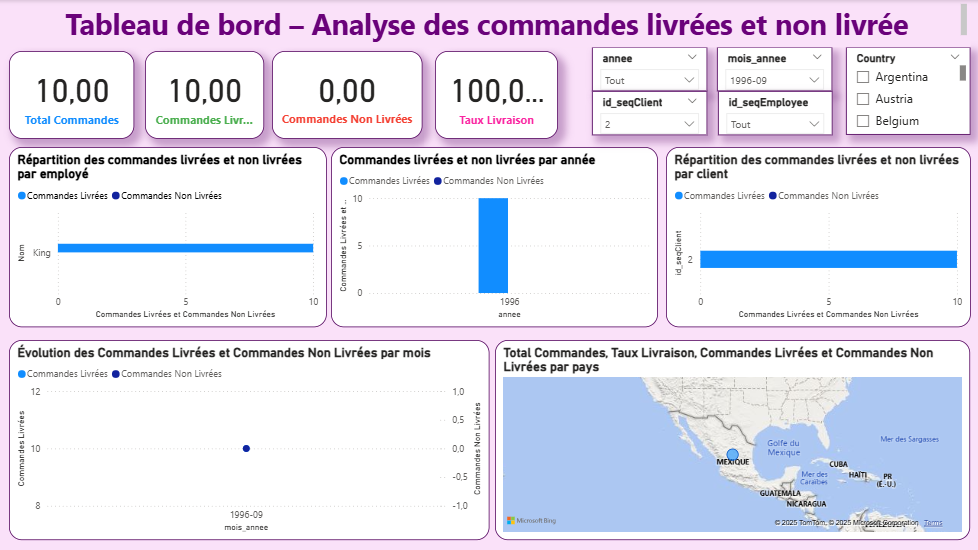

This screenshot's page, from the dashboard's own definition file:
{"tool":"powerbi","page":{"name":"Dashboard_biproject","canvas":[1280,720],"ordinal":0},"visuals":[{"type":"card","fields":{"Values":["TF_Commande.Total Commandes"]},"box":[11.5,66.2,164.2,115.2],"z":0},{"type":"card","fields":{"Values":["TF_Commande.Commandes Livrées"]},"box":[185.8,66.1,159.7,115.6],"z":1000},{"type":"card","fields":{"Values":["TF_Commande.Commandes Non Livrées"]},"box":[356.7,66.7,196.7,115],"z":2000},{"type":"card","fields":{"Values":["TF_Commande.Taux Livraison"]},"box":[568.4,65.8,169.5,115.4],"z":3000},{"type":"slicer","fields":{"Values":["Dim_Temps.annee"]},"box":[774.7,61.9,151.2,57.6],"z":4000},{"type":"slicer","fields":{"Values":["Dim_Temps.mois_annee"]},"box":[938.9,61.9,151.2,57.6],"z":5000},{"type":"slicer","fields":{"Values":["Dim_Client.Country"]},"box":[1107.4,61.9,162.7,115.2],"z":6000},{"type":"lineChart","title":"Évolution des Commandes Livrées et Commandes Non Livrées par mois","fields":{"Category":["Dim_Temps.mois_annee"],"Y":["TF_Commande.Commandes Livrées"],"Y2":["TF_Commande.Commandes Non Livrées"]},"box":[11.5,445,629.3,262.1],"z":7000},{"type":"clusteredBarChart","title":"Répartition des commandes livrées et non livrées par employé","fields":{"Category":["Dim_Employee.Nom"],"Y":["TF_Commande.Commandes Livrées","TF_Commande.Commandes Non Livrées"]},"box":[11.5,193,416.2,236.2],"z":8000},{"type":"clusteredColumnChart","title":"Commandes livrées et non livrées par année","fields":{"Category":["Dim_Temps.annee"],"Y":["TF_Commande.Commandes Livrées","TF_Commande.Commandes Non Livrées"]},"box":[433.4,193,427.7,236.2],"z":9000},{"type":"map","title":"Total Commandes, Taux Livraison, Commandes Livrées et Commandes Non Livrées par pays","fields":{"Category":["Dim_Client.Country"],"Size":["TF_Commande.Total Commandes"]},"box":[648,445,622.1,262.1],"z":10000},{"type":"slicer","fields":{"Values":["TF_Commande.id_seqClient"]},"box":[774.7,119.5,151.2,57.6],"z":11000},{"type":"slicer","fields":{"Values":["TF_Commande.id_seqEmployee"]},"box":[940.3,119.5,149.8,57.6],"z":12000},{"type":"barChart","title":"Répartition des commandes livrées et non livrées par client ","fields":{"Category":["Dim_Client.id_seqClient"],"Y":["TF_Commande.Commandes Livrées","TF_Commande.Commandes Non Livrées"]},"box":[871.2,193,398.9,236.2],"z":13000},{"type":"textbox","box":[11.5,0,1258.6,61.9],"z":14000}]}

Visuals, with their boxes in screenshot pixels (x1, y1, x2, y2), scaled from the page's 1280x720 canvas onto the 978x550 screenshot:
card - TF_Commande.Total Commandes: l=9, t=51, r=134, b=139
card - TF_Commande.Commandes Livrées: l=142, t=50, r=264, b=139
card - TF_Commande.Commandes Non Livrées: l=273, t=51, r=423, b=139
card - TF_Commande.Taux Livraison: l=434, t=50, r=564, b=138
slicer - Dim_Temps.annee: l=592, t=47, r=707, b=91
slicer - Dim_Temps.mois_annee: l=717, t=47, r=833, b=91
slicer - Dim_Client.Country: l=846, t=47, r=970, b=135
"Évolution des Commandes Livrées et Commandes Non Livrées par mois" lineChart: l=9, t=340, r=490, b=540
"Répartition des commandes livrées et non livrées par employé" clusteredBarChart: l=9, t=147, r=327, b=328
"Commandes livrées et non livrées par année" clusteredColumnChart: l=331, t=147, r=658, b=328
"Total Commandes, Taux Livraison, Commandes Livrées et Commandes Non Livrées par pays" map: l=495, t=340, r=970, b=540
slicer - TF_Commande.id_seqClient: l=592, t=91, r=707, b=135
slicer - TF_Commande.id_seqEmployee: l=718, t=91, r=833, b=135
"Répartition des commandes livrées et non livrées par client " barChart: l=666, t=147, r=970, b=328
textbox: l=9, t=0, r=970, b=47
